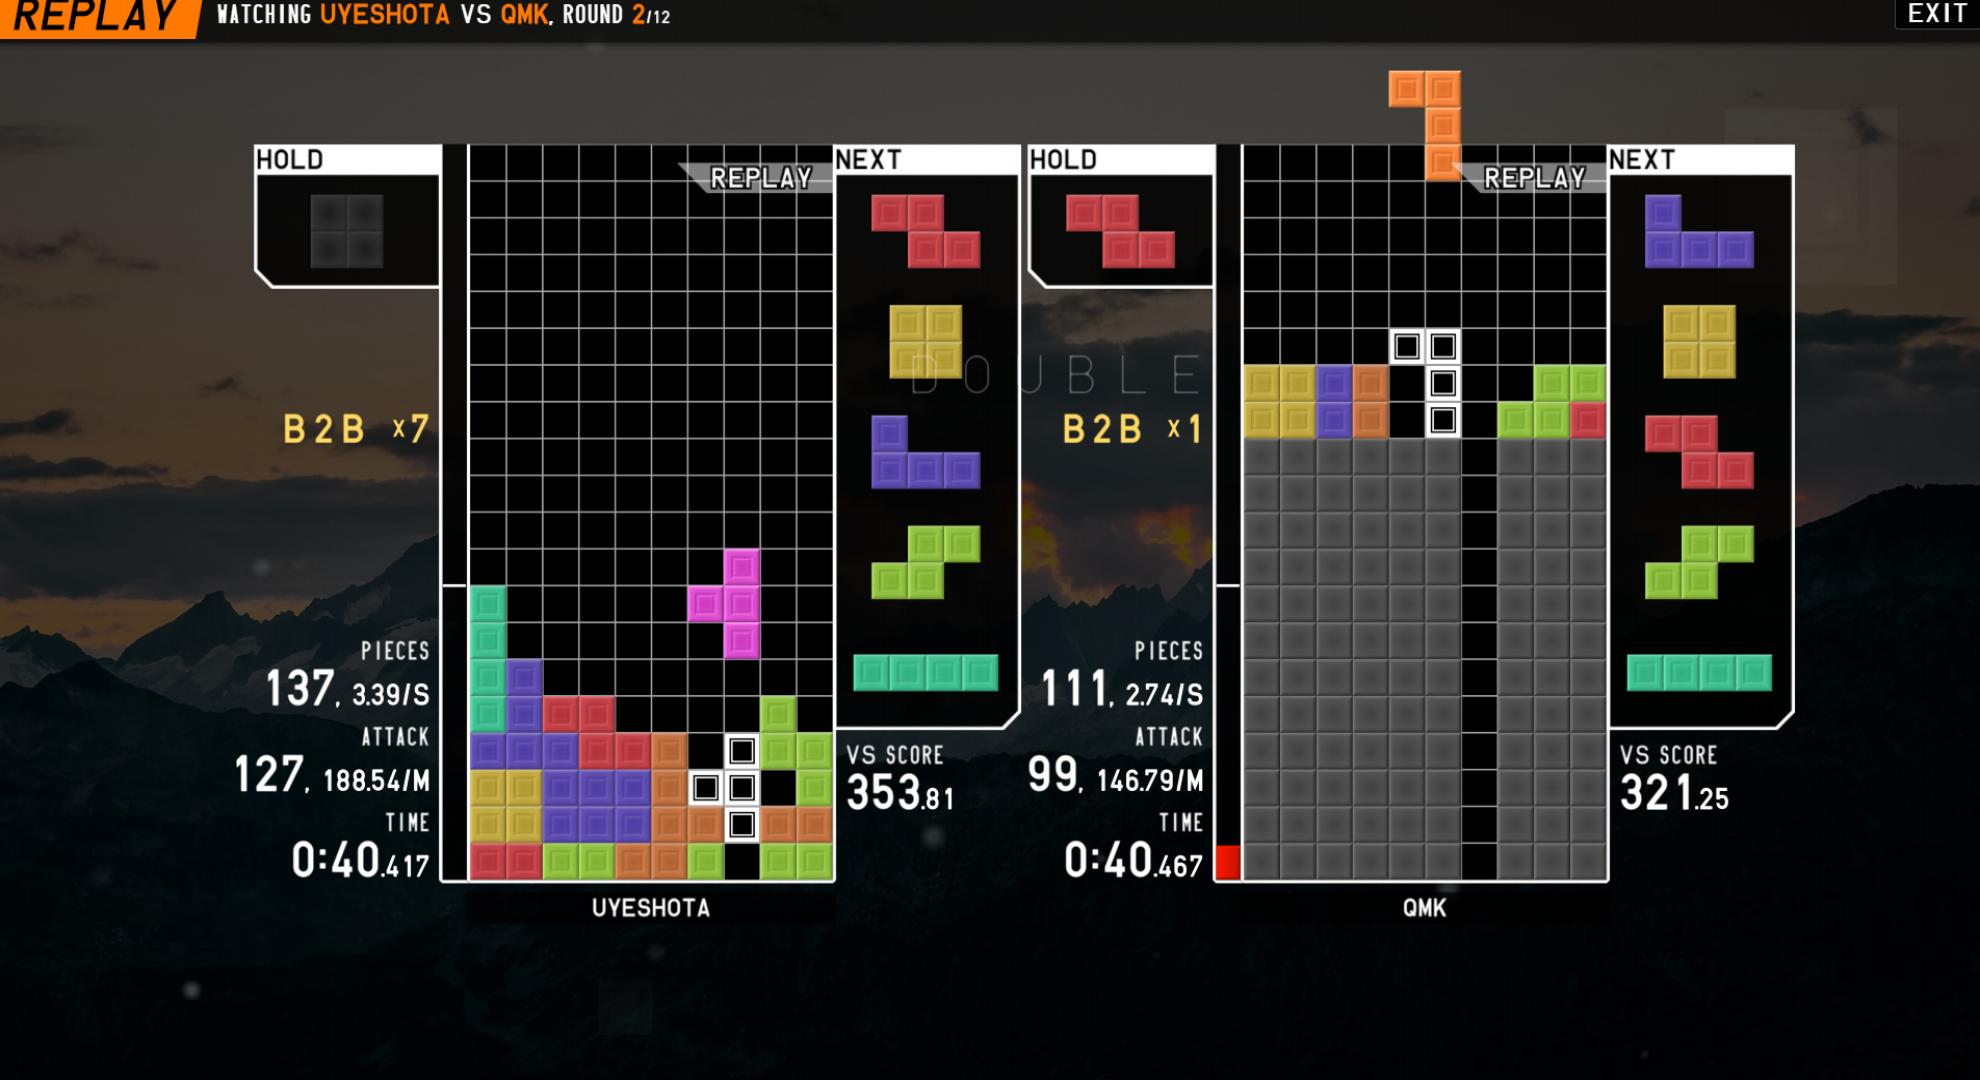tspin: (686, 728, 806, 842)
